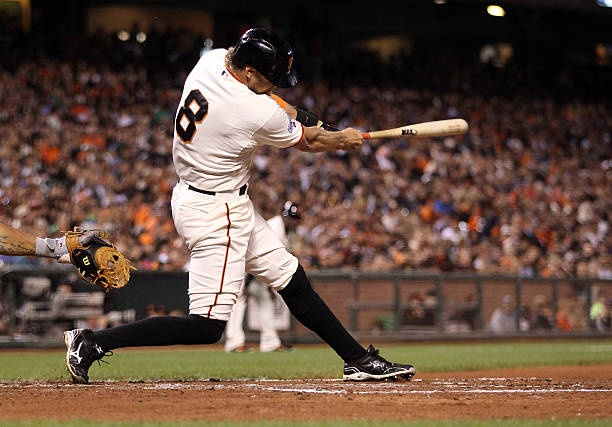bita: (355, 120, 471, 144)
